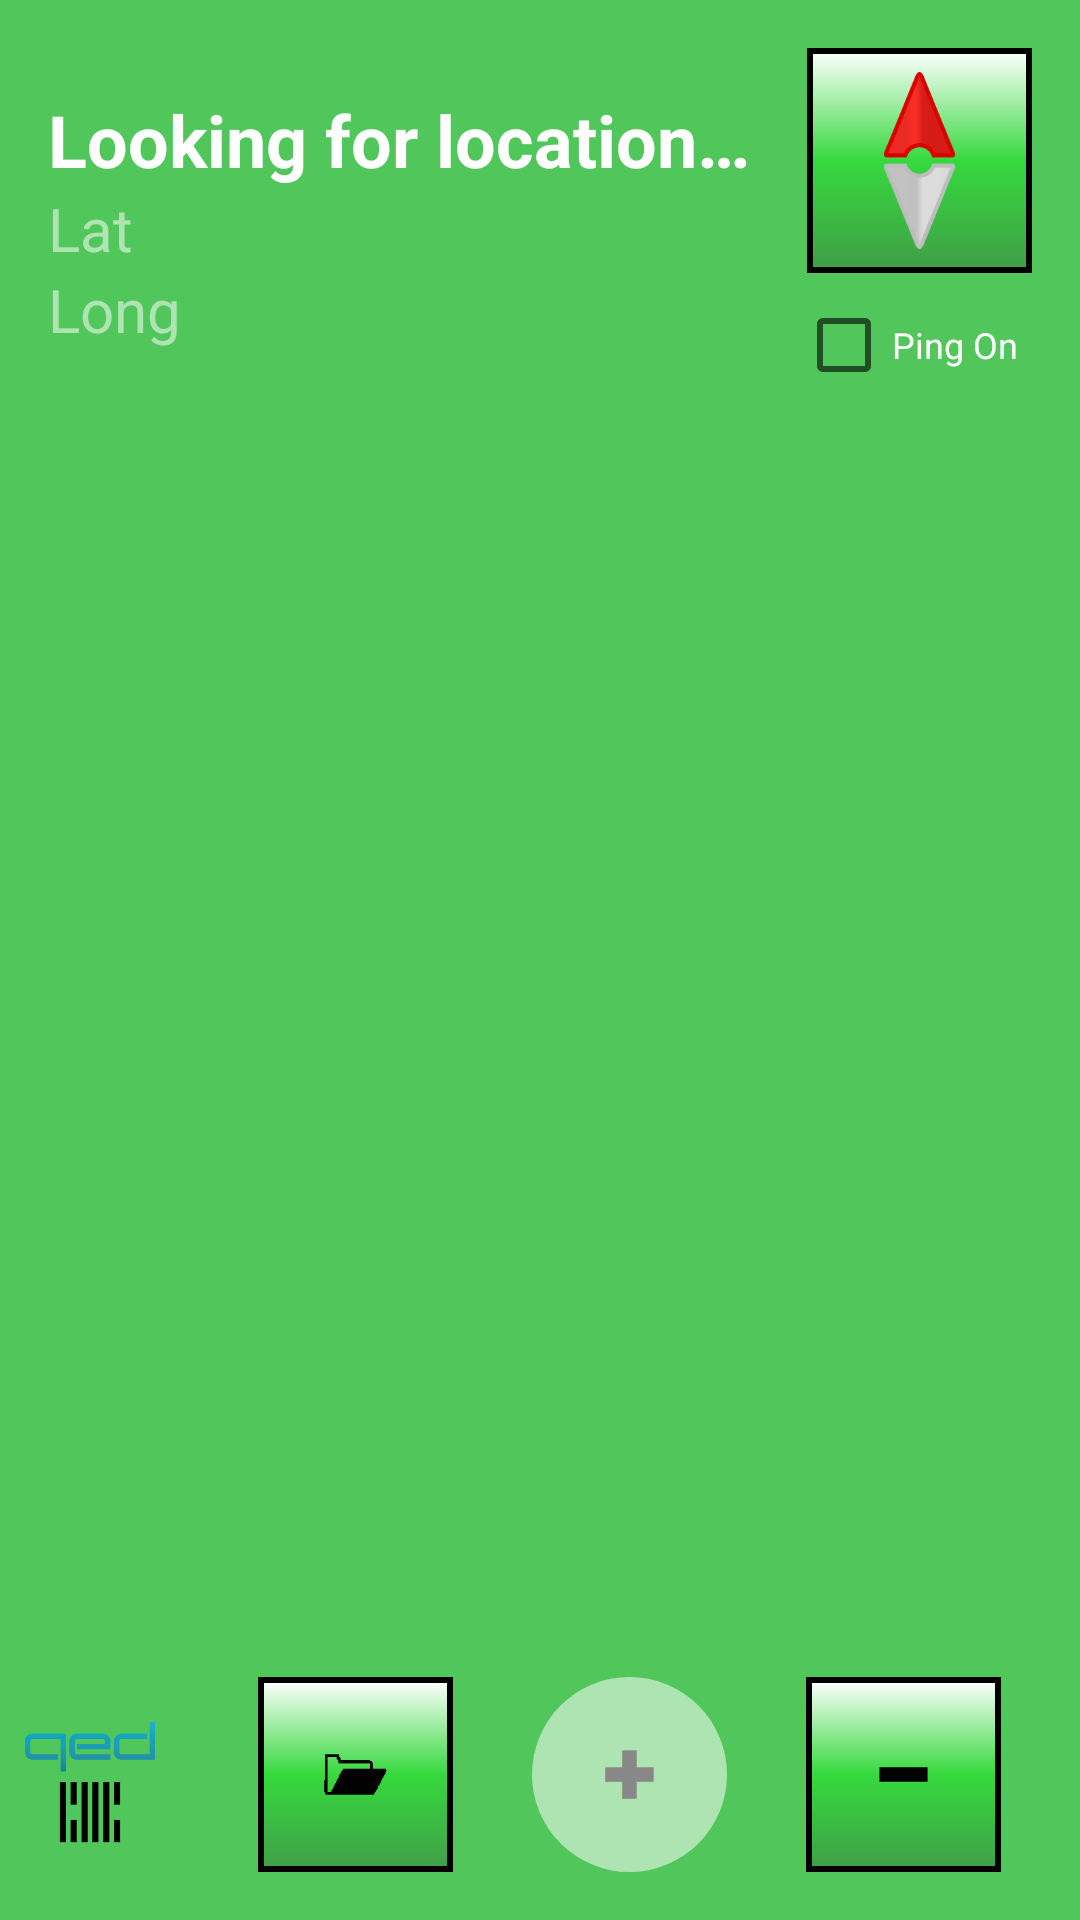

Locate icon controls on the screen. Image size 1080 × 1920, boxes as (left=x1, top=y1, right=x2, bottom=y2).
compass: (left=807, top=48, right=1032, bottom=273)
